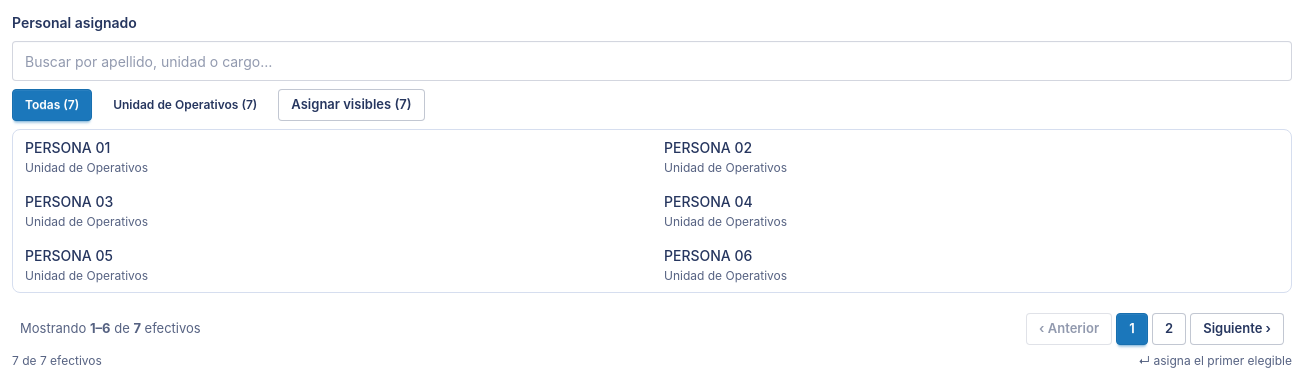
it: caso 7 · el personal y el rechazo al asignar › al pasar de página aparece el séptimo candidato
Click the button "Siguiente ›": (1237, 329) [1190,313,1284,345]
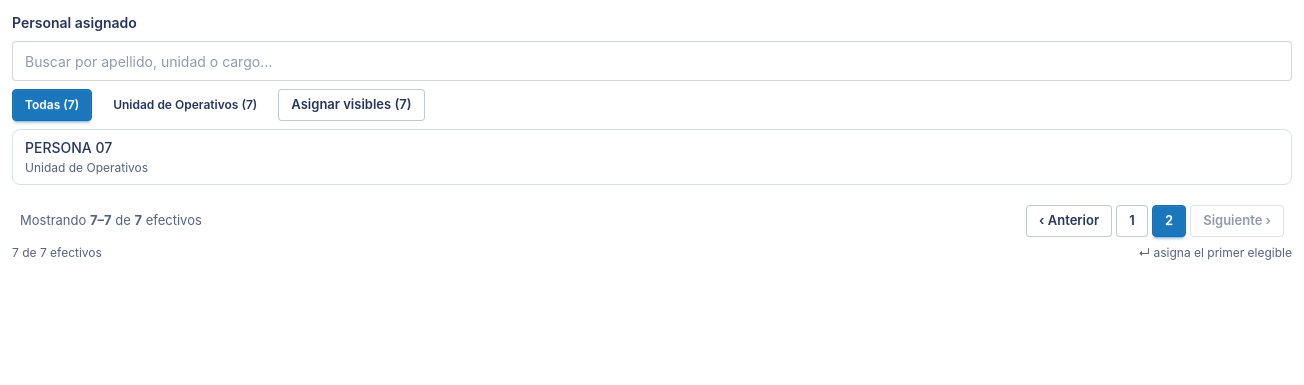
Check: the text "PERSONA 07" is shown, box [25,138,112,158]
Check: the button "PERSONA 01" is gone
